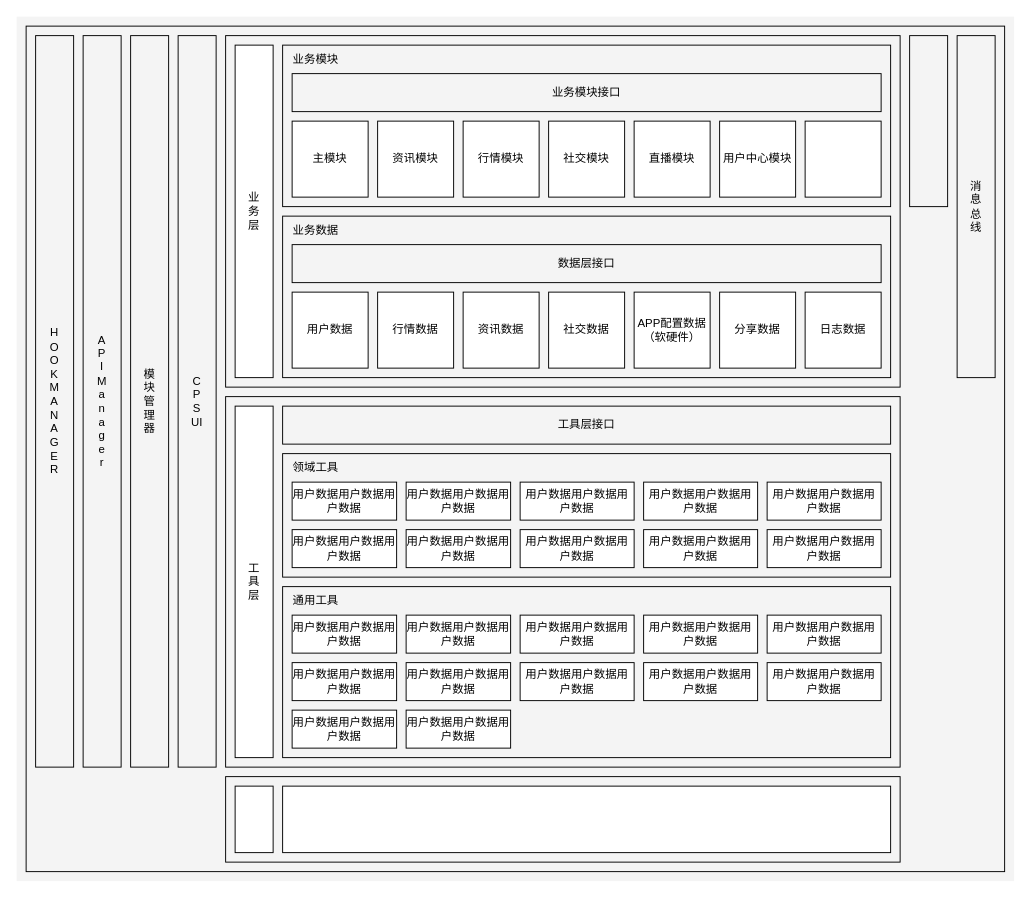
This 1030x897 diagram has some shape labels left out. Each missing label, with the centre of its shape:
S D K 层: (253,819)
系统SDK: (586,819)
路 由 总 线: (928,121)
